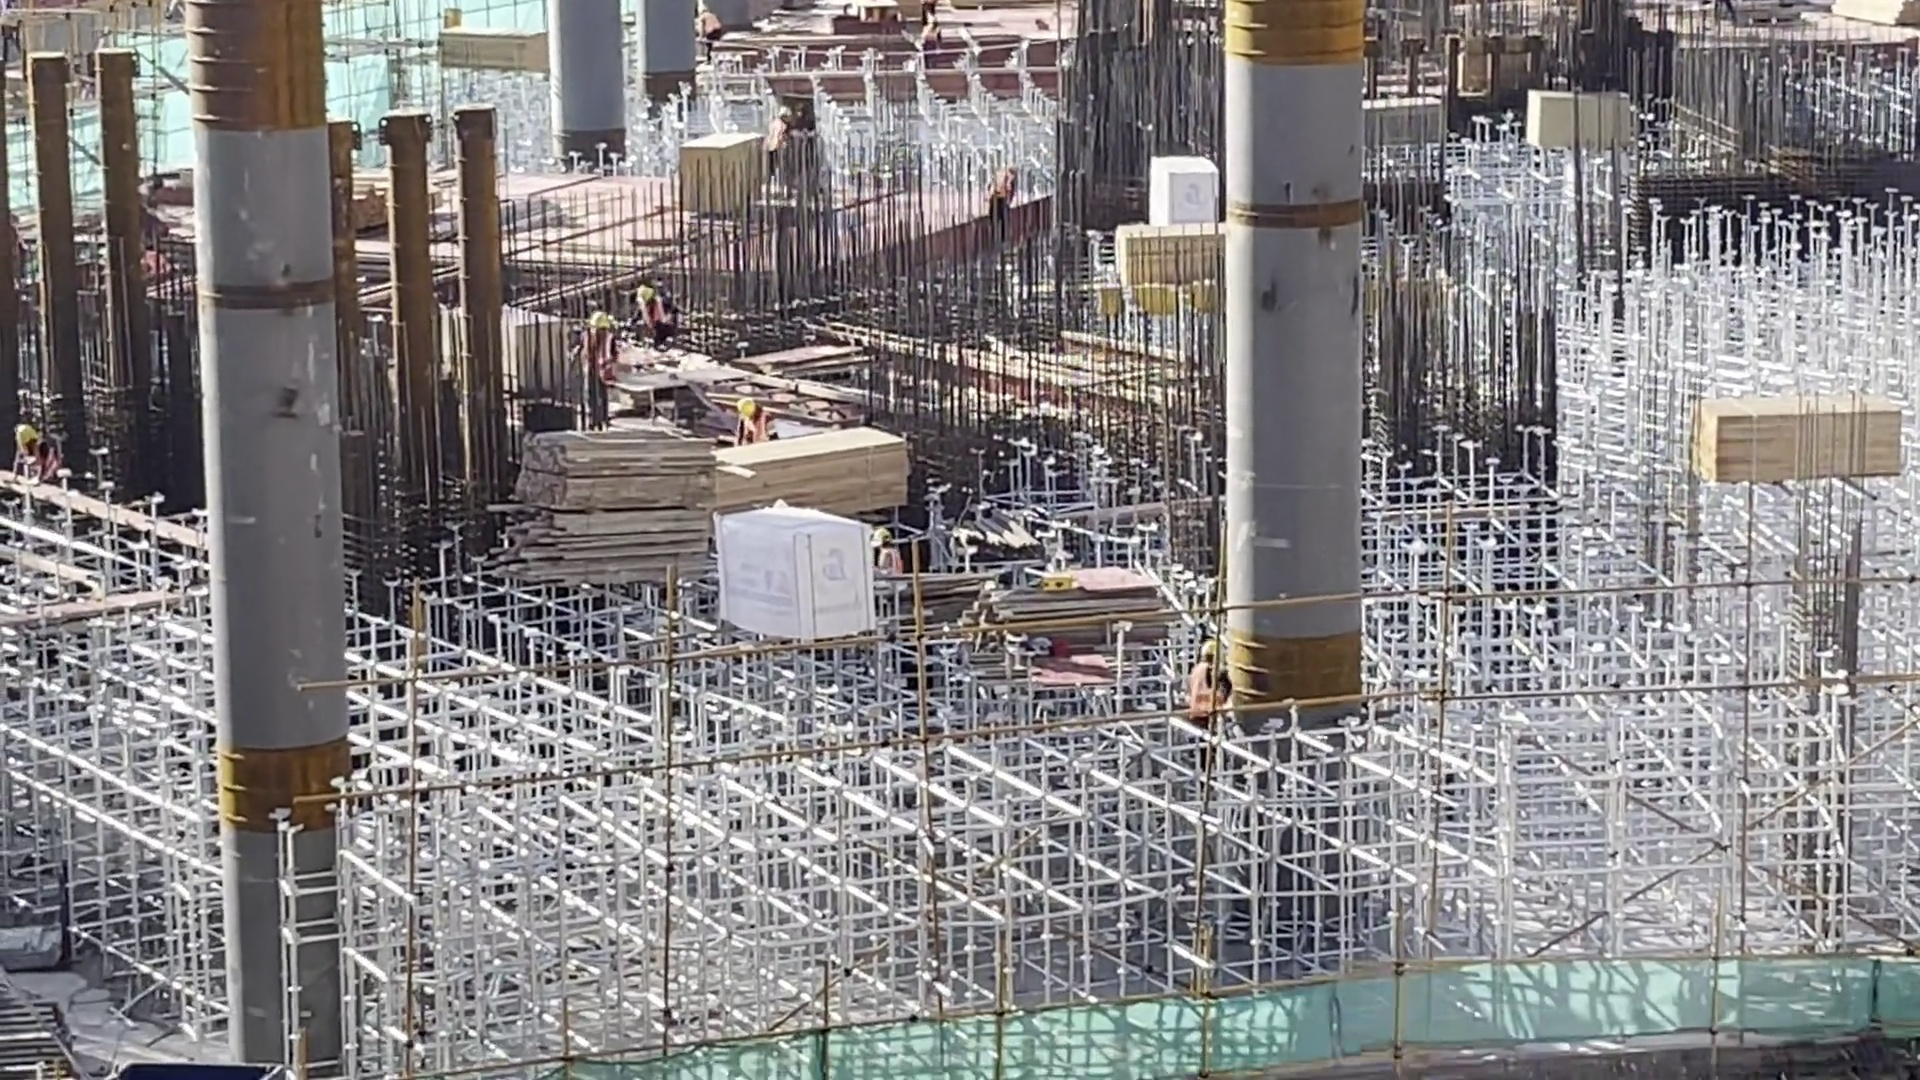board: (970, 565, 1193, 646)
helmet: (16, 425, 41, 448), (736, 396, 756, 417), (590, 312, 612, 330), (1201, 640, 1218, 657), (636, 287, 656, 302), (777, 105, 791, 118)
hopper: (99, 1057, 295, 1080)
person: (14, 426, 63, 489), (631, 281, 675, 351), (1189, 638, 1229, 710), (585, 311, 619, 382), (733, 397, 778, 447), (758, 104, 791, 161), (696, 3, 724, 67), (874, 526, 905, 575), (920, 15, 942, 56)
vest: (1190, 662, 1216, 711), (24, 445, 60, 477), (763, 120, 789, 154), (694, 11, 721, 36), (879, 549, 903, 573), (923, 24, 940, 45)
wood: (488, 423, 718, 589), (1689, 391, 1904, 487), (722, 426, 915, 513), (1118, 220, 1225, 289), (673, 131, 766, 209), (437, 20, 551, 79)
